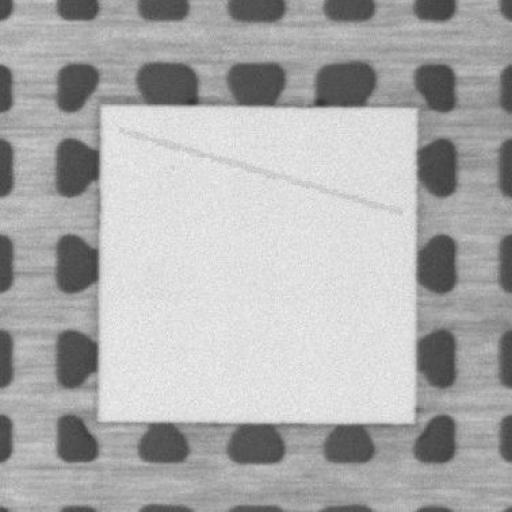DIE_CRACK: (120, 130, 399, 211)
